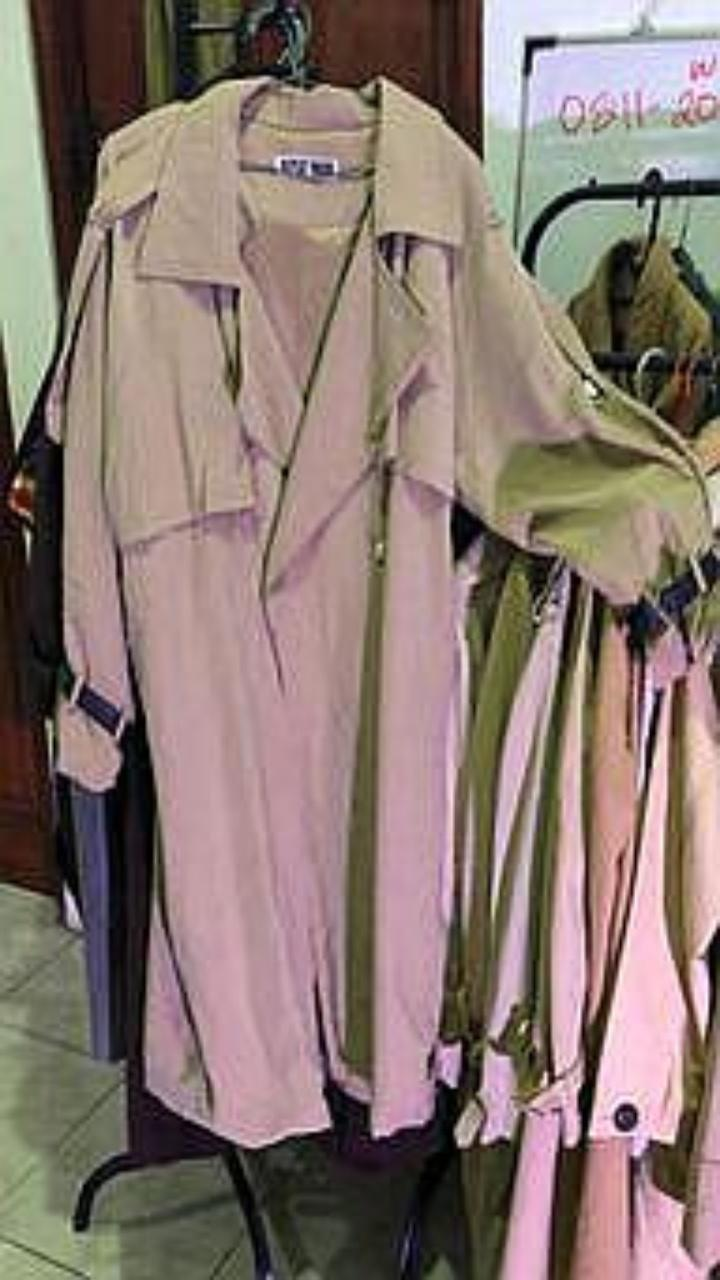Coat: (48, 79, 710, 1144)
